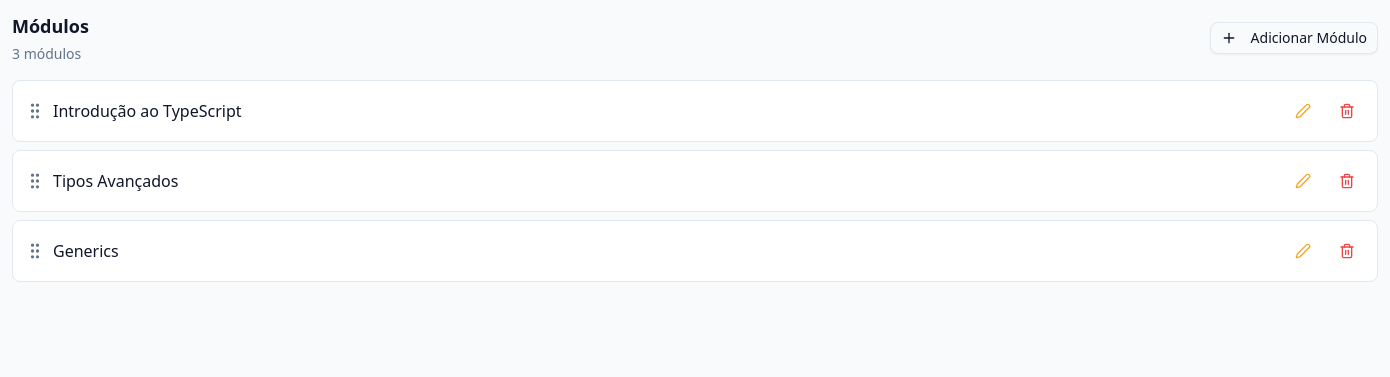
it: ModulesEditor › Adding Modules › should show input field when add button is clicked
Click the button "Adicionar Módulo".
click(1294, 38)  # box [1210,22,1378,54]
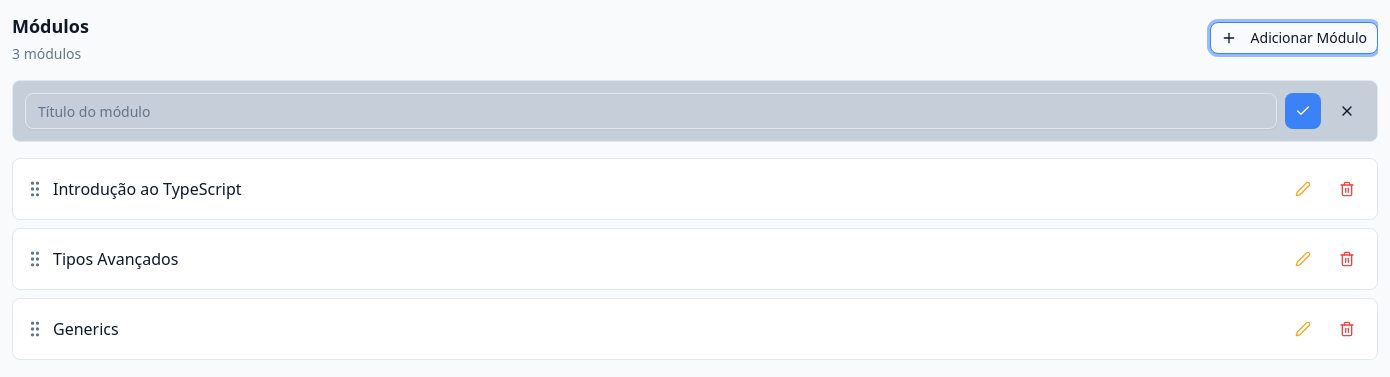
Result: the field with placeholder "Título do módulo" is shown at [25,93,1277,129]
